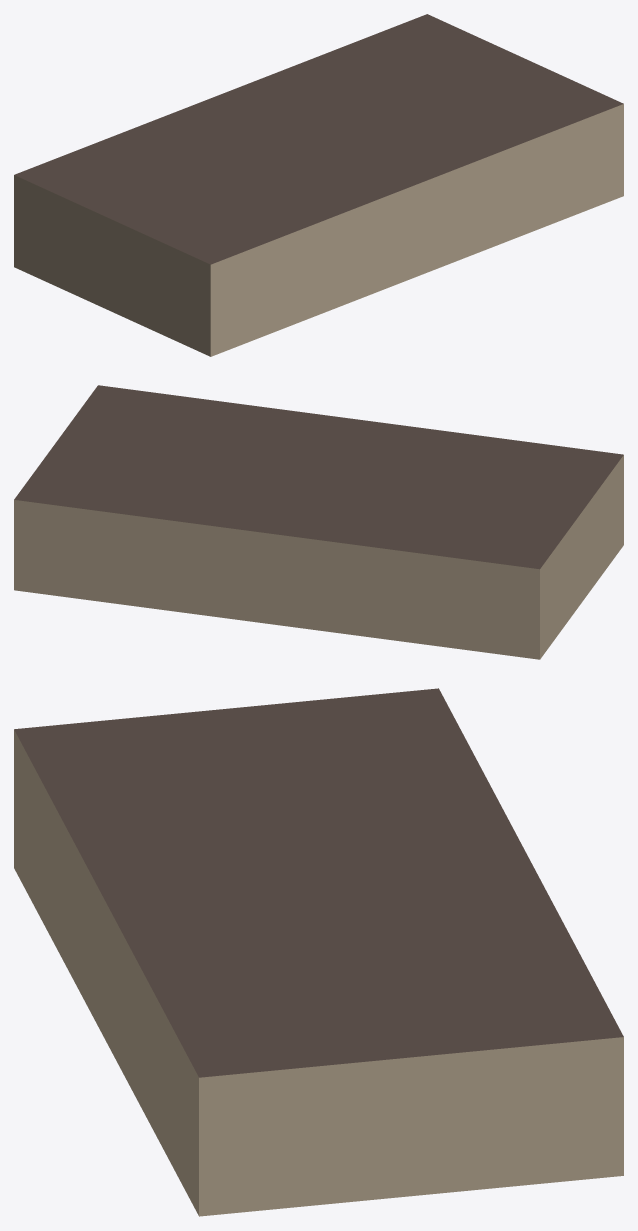
3 views of the same model, one above another, from view 1: azimuth 30°, elevation 25°; view 2: azimuth 150°, elevation 25°; view 3: azimuth 270°, elevation 25° (orthographic). The views are drawn at different scales.
Visible parts, largest first — view 1: HP-w496382179; view 2: HP-w496382179; view 3: HP-w496382179.
Part boxes in pixels (x1,y1,x2,y2): HP-w496382179: (14,14,623,356); HP-w496382179: (14,385,623,659); HP-w496382179: (14,688,623,1216).
Size of the model in its own units: 36.08 by 6 by 23.89.
